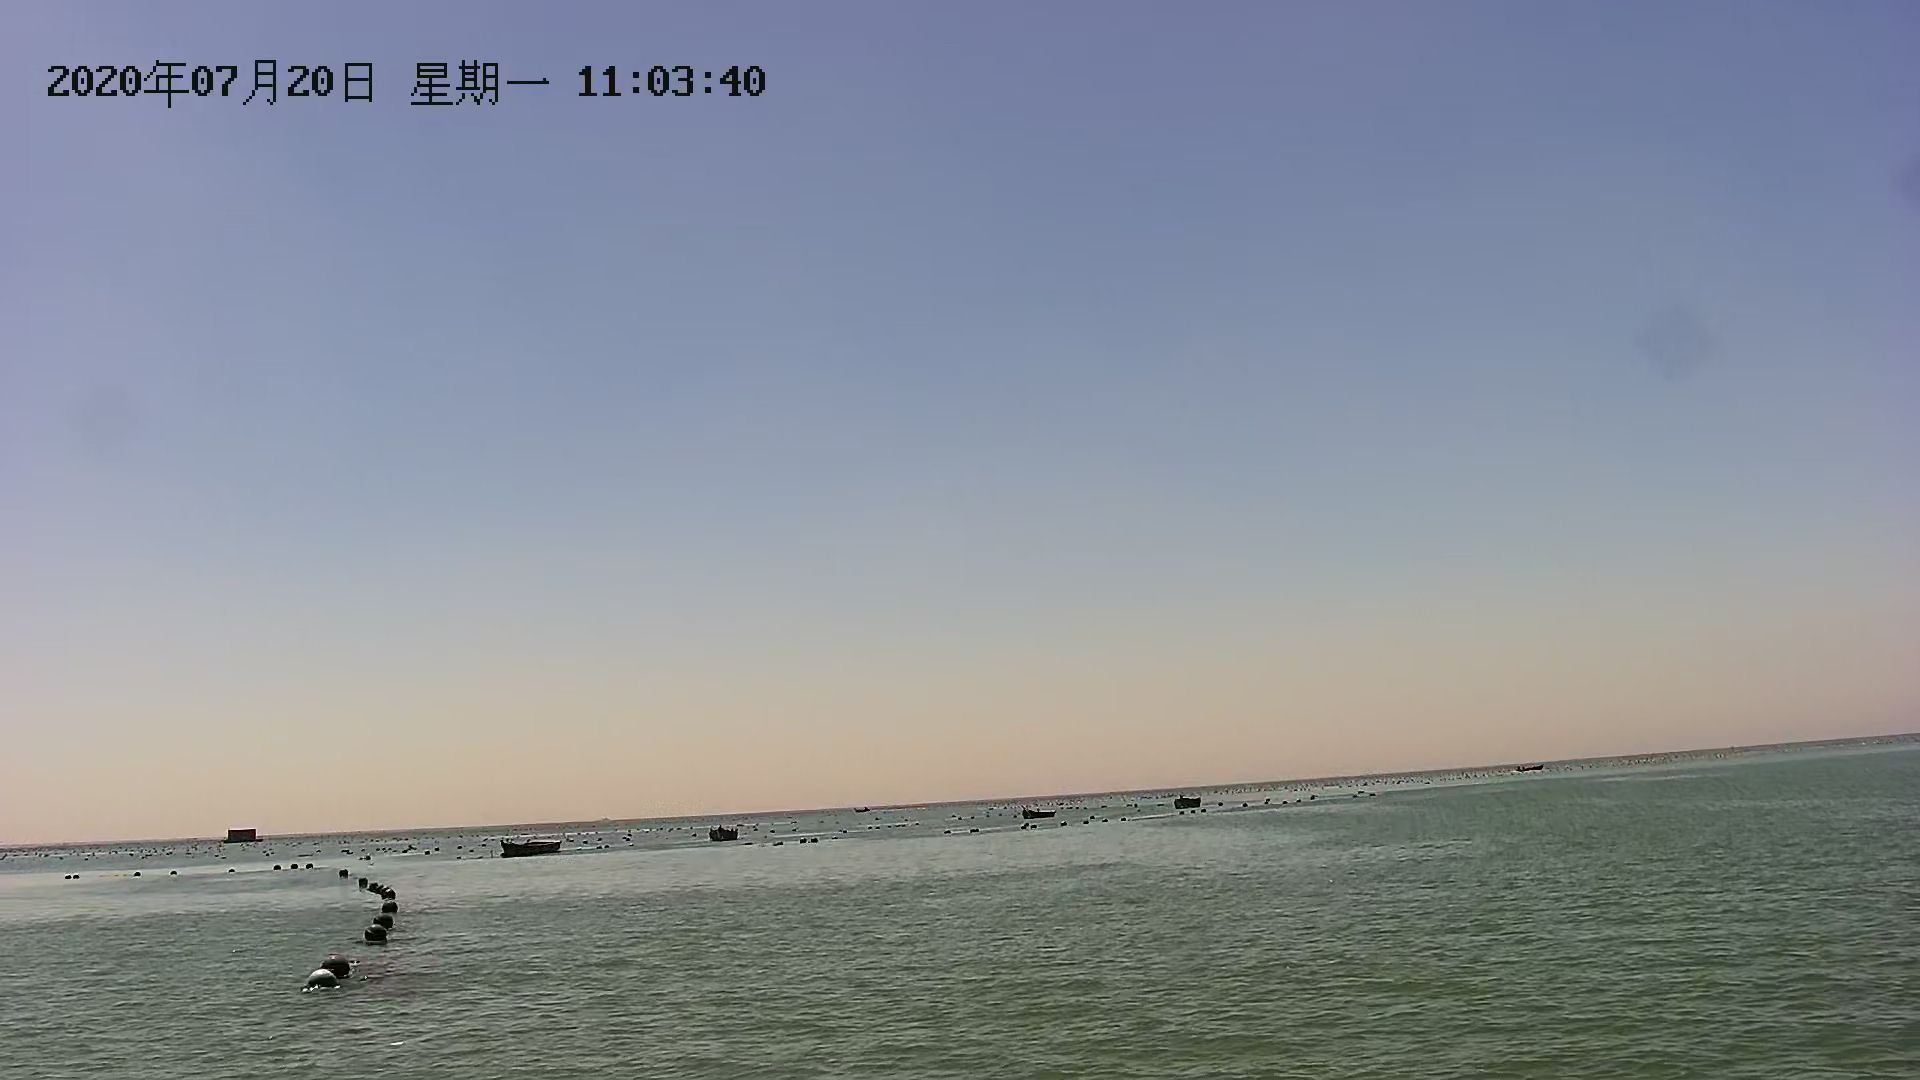ball: (320, 948, 357, 982), (305, 967, 340, 998), (359, 923, 388, 948)
boat: (493, 831, 567, 858), (1019, 800, 1059, 827), (704, 825, 742, 845), (1507, 760, 1549, 777), (1171, 796, 1211, 812)
platform: (222, 827, 266, 847)
